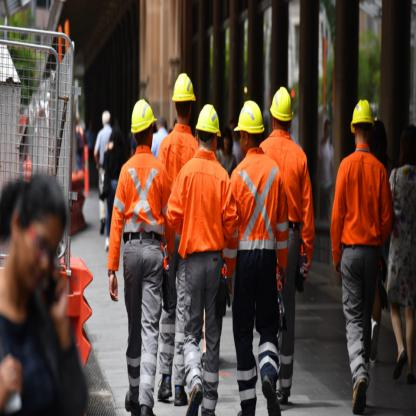helmet: (234, 99, 265, 135), (130, 99, 157, 134), (195, 103, 220, 138), (269, 86, 293, 122), (350, 97, 375, 131), (172, 71, 196, 102)
person: (0, 176, 86, 410), (174, 108, 235, 411), (113, 100, 167, 414), (334, 100, 388, 414), (233, 100, 286, 416), (264, 85, 314, 398), (388, 122, 416, 384), (159, 72, 198, 182), (94, 109, 112, 230)
